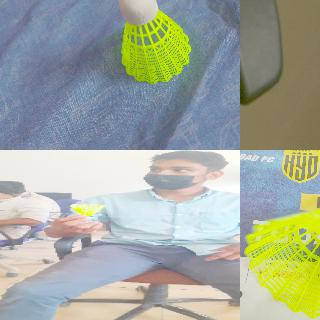shuttlecock: (245, 195, 319, 318), (119, 0, 191, 84), (68, 203, 105, 218)
